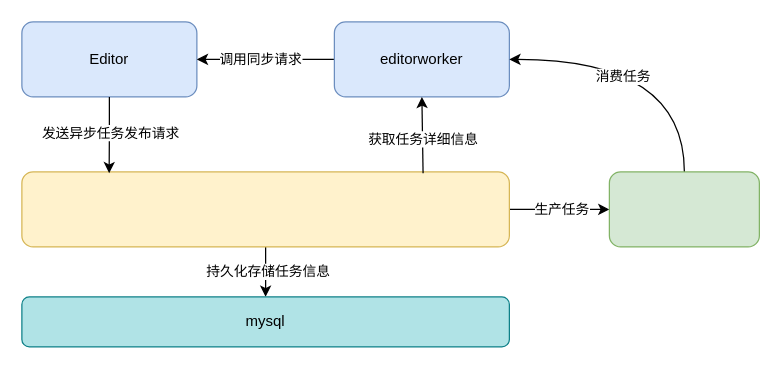
The diagram is 781 pixels wide and 369 high, and some of its shapes have lost their labels. Each missing label, with the centre of its shape:
"msgcenter" belongs at (x=265, y=209).
"rabbitmq" belongs at (x=683, y=209).
